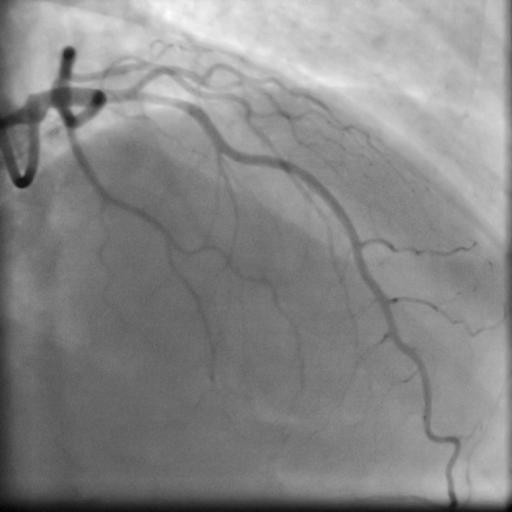Stenosis: (134, 89, 186, 111)
